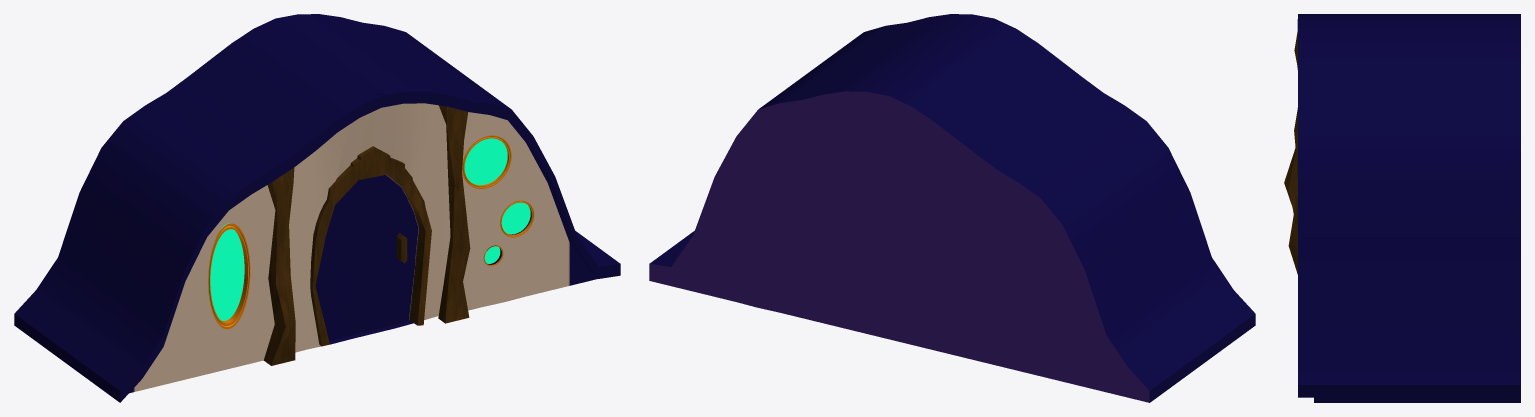
Rendered from HOUSE.fbx.
The picture shows the model from 3 angles, left to right: view 1: azimuth 30°, elevation 25°; view 2: azimuth 150°, elevation 25°; view 3: azimuth 270°, elevation 25°; orthographic projection. The views are drawn at different scales.
Visible parts, largest first — view 1: HOUSE; view 2: HOUSE; view 3: HOUSE.
Boxes of the visible parts, bbox=[...] form: HOUSE: bbox=[14, 14, 620, 402]; HOUSE: bbox=[649, 14, 1255, 402]; HOUSE: bbox=[1284, 14, 1520, 402].
Bounding box in the file's own units: 615 × 286 × 239.
Materials: 1 (1 with a texture image).
